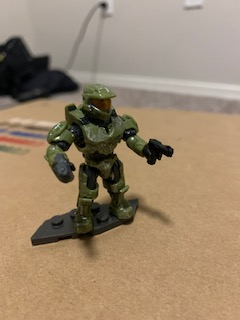chief: (43, 82, 162, 236)
pistol: (145, 137, 174, 168), (51, 152, 78, 184)
spartan: (41, 80, 160, 234)
